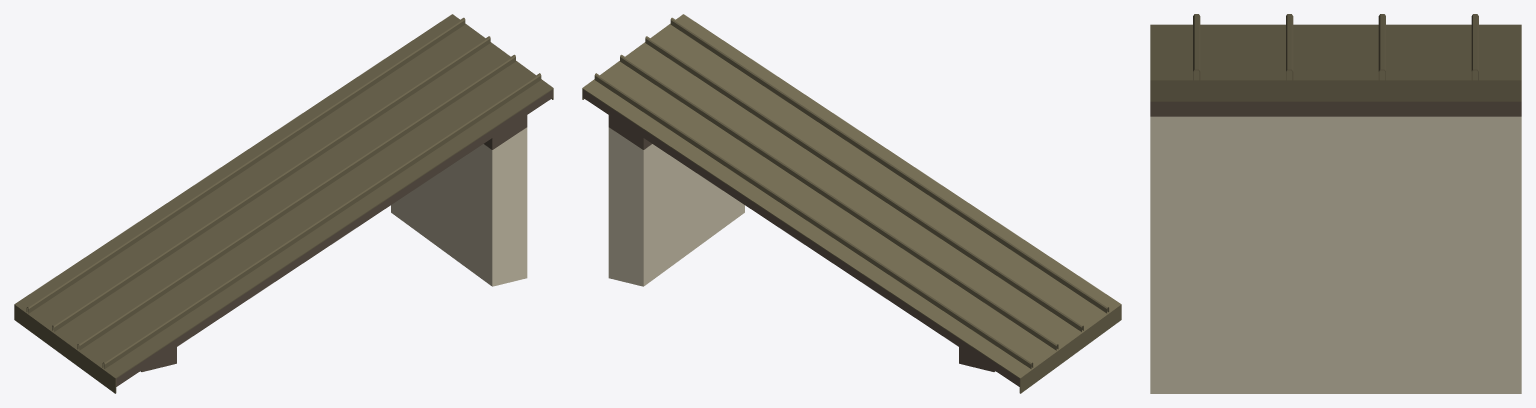
Rendered from rpg-mansion-standing-seam-lean-to-span-01.glb.
3 renders of one model, left to right at view 1: azimuth 30°, elevation 25°; view 2: azimuth 150°, elevation 25°; view 3: azimuth 270°, elevation 25°, orthographic. The views are drawn at different scales.
Parts seen in each view (by area): view 1: rpg-mansion-standing-seam-lean-to-span-01; view 2: rpg-mansion-standing-seam-lean-to-span-01; view 3: rpg-mansion-standing-seam-lean-to-span-01.
Boxes of the visible parts, x1,y1,x2,y2 form: rpg-mansion-standing-seam-lean-to-span-01: (14, 14, 553, 393); rpg-mansion-standing-seam-lean-to-span-01: (582, 14, 1121, 393); rpg-mansion-standing-seam-lean-to-span-01: (1150, 14, 1521, 393).
Size of the model in its own units: 3 by 1.34 by 1.2.
